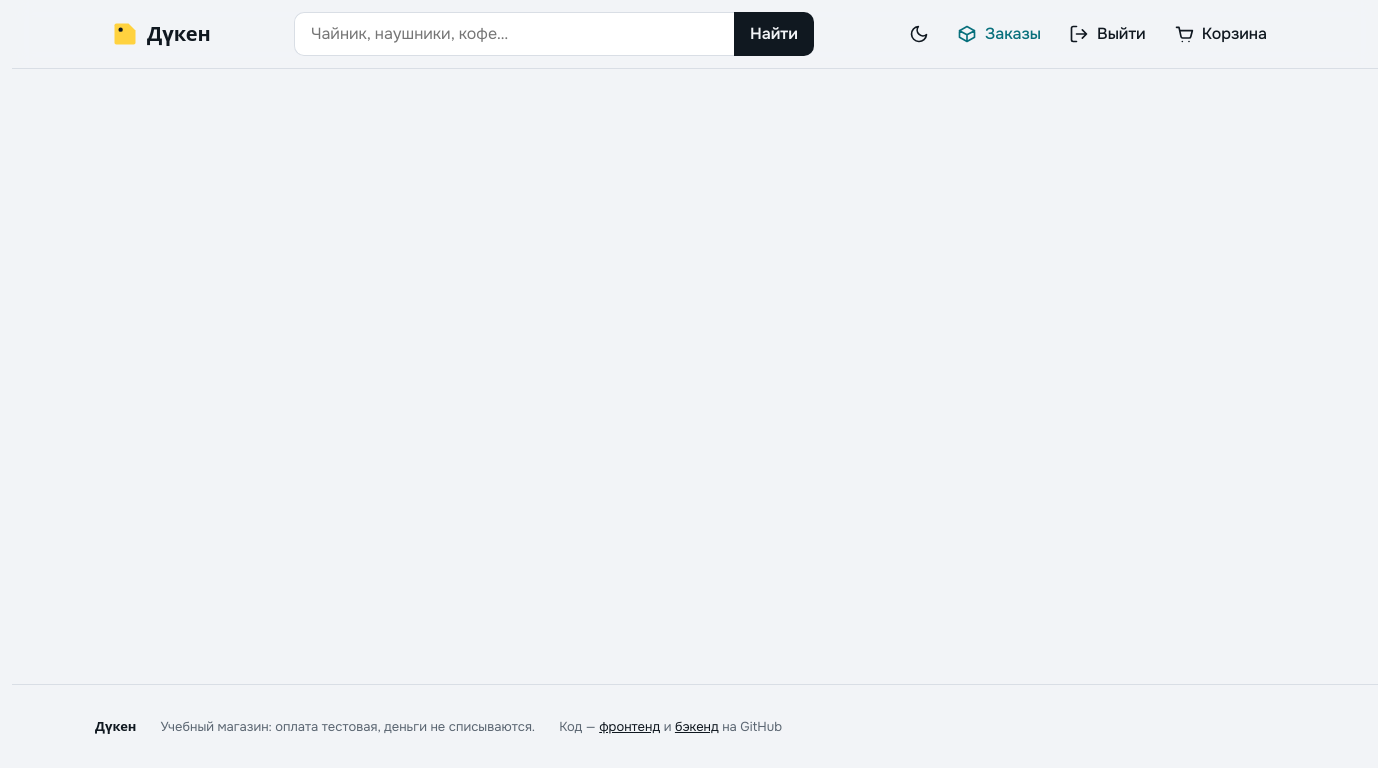
Test case: выход сбрасывает вход и ведёт на главную
Step 1. Click the button "Выйти" → (1107, 34), box [1057,12,1158,56]
(page scrolled)
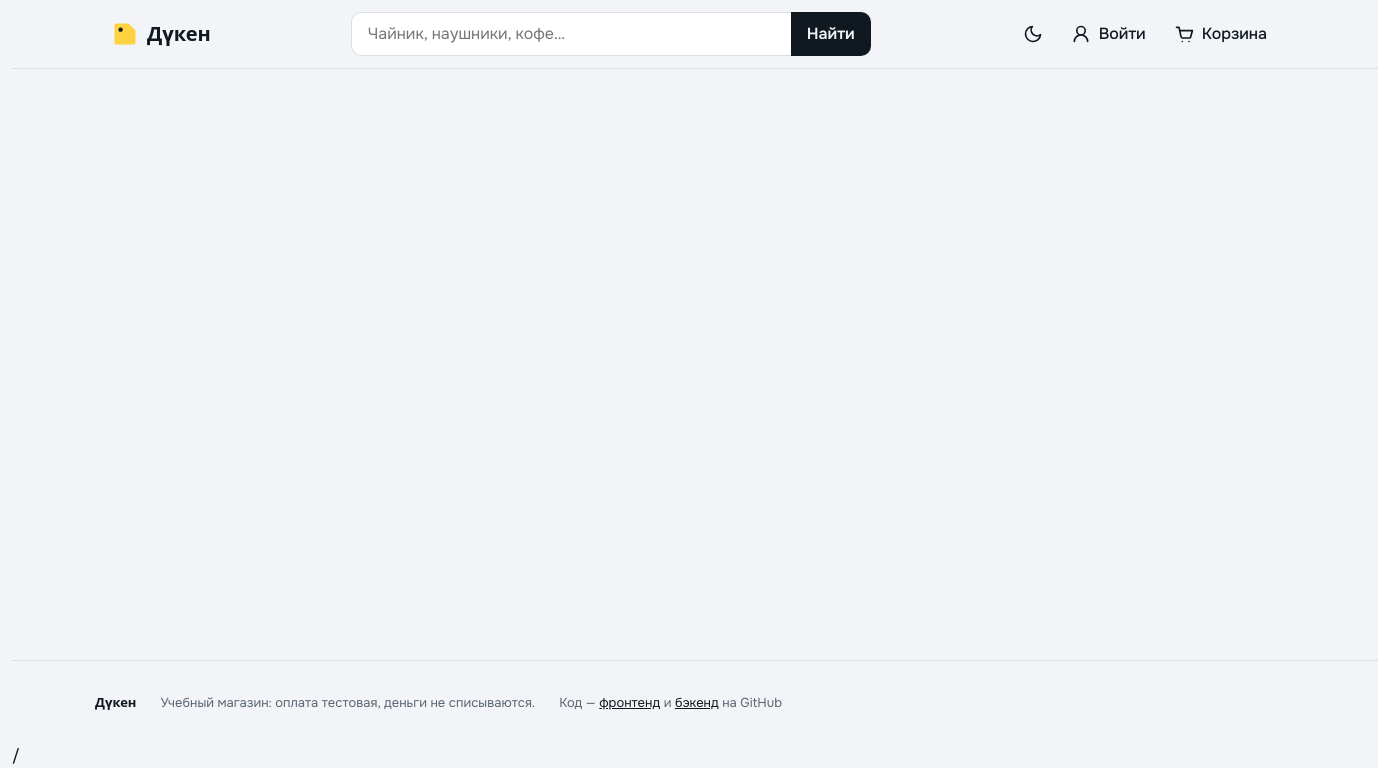
Expected: the link "Войти" is shown, [1071,23,1146,44]
Expected: the text with test id "location" reads "/", [12,745,20,766]
